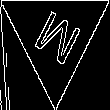M_SW: (27, 3, 83, 70)
